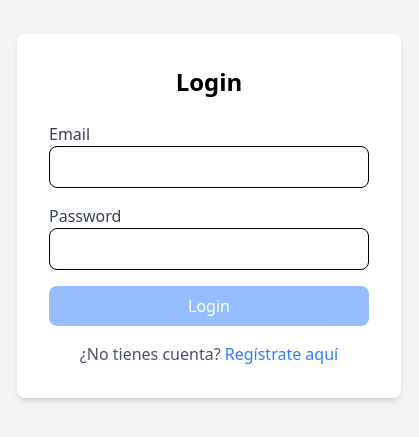
Test: LoginComponent E2E Tests › debería mostrar mensaje de error en login fallido
Type "usuario@test.com" into the field named "email" at x=209, y=167, box [49,146,369,188]
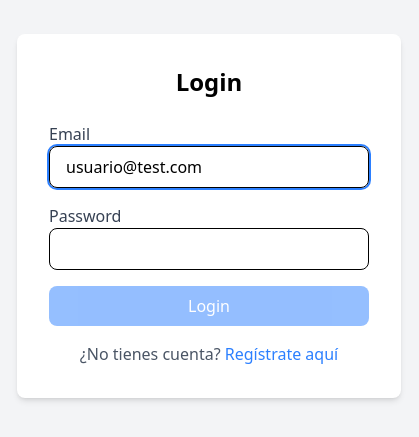
Type "passwordErronea" into the password field named "password" at x=209, y=249, box [49,228,369,270]
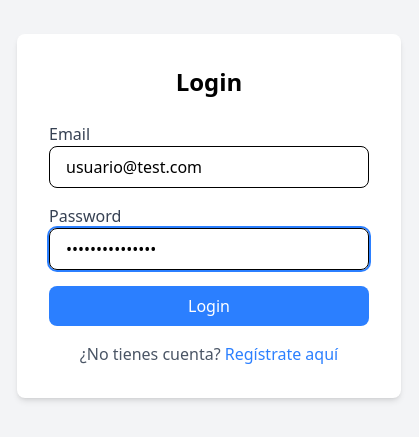
Click the submit button at x=209, y=306, box [49,286,369,326]
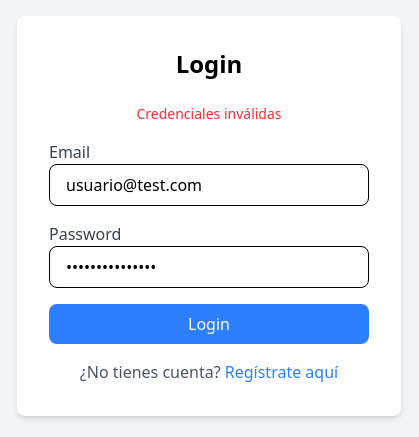
expect the text "Credenciales inválidas" is shown: met, box [136,104,282,123]
